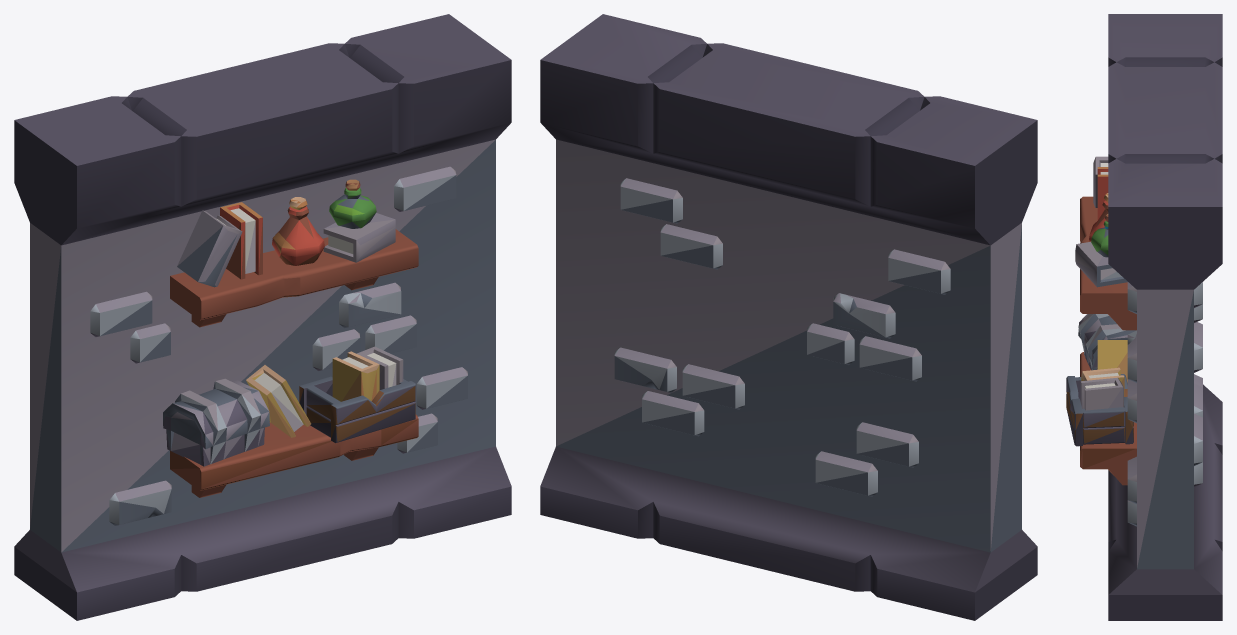
3 renders of one model, left to right at view 1: azimuth 30°, elevation 25°; view 2: azimuth 150°, elevation 25°; view 3: azimuth 270°, elevation 25°, orthographic. The views are drawn at different scales.
Visible parts, largest first — view 1: model; view 2: model; view 3: model.
Boxes of the visible parts, x1,y1,x2,y2 form: model: [14, 14, 511, 620]; model: [540, 14, 1037, 620]; model: [1066, 14, 1222, 620].
Bounding box in the file's own units: 2.8 × 2.8 × 0.9573.
